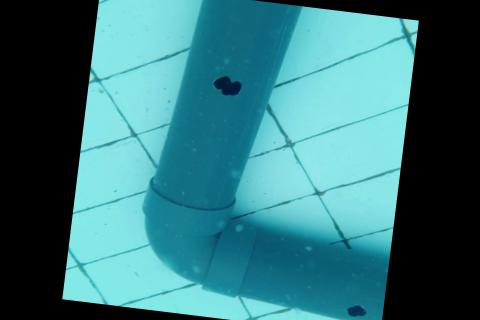kebocoran: (212, 73, 244, 97), (344, 303, 367, 318)
